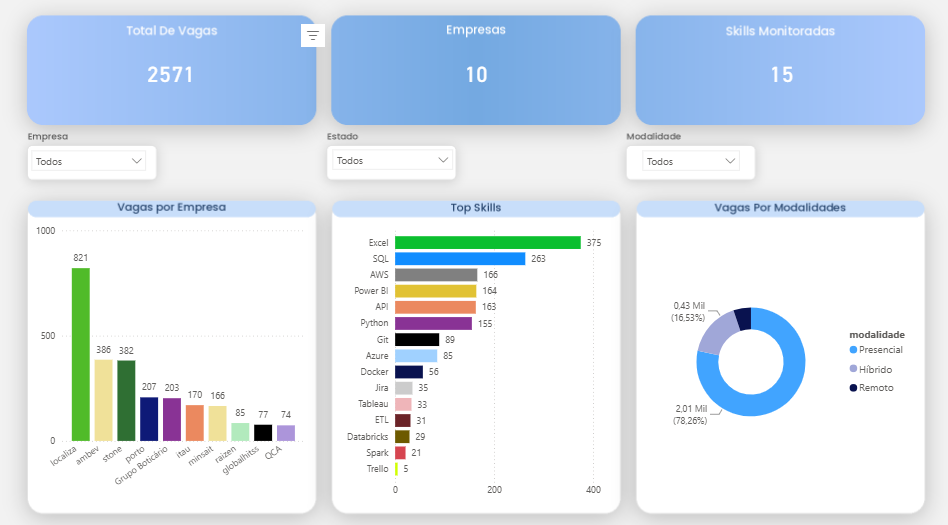

The page's visual inventory and layout, read from the dashboard file:
{"tool":"powerbi","page":{"name":"Visão Geral","canvas":[1280,720],"ordinal":0},"visuals":[{"type":"columnChart","title":"Vagas por Empresa","fields":{"Category":["companies.nome"],"Y":["Medidas.Total Vagas"]},"box":[47,298.3,368.8,379.1],"z":0},{"type":"barChart","title":"Top Skills","fields":{"Category":["job_skills.skill"],"Y":["Medidas.Qtd Ocorrências Skill"]},"box":[457,298.3,365.9,379.1],"z":1000},{"type":"donutChart","title":"Vagas Por Modalidades","fields":{"Category":["jobs.modalidade"],"Y":["CountNonNull(jobs.id)"]},"box":[871.3,298.3,364.4,379.1],"z":2000},{"type":"slicer","fields":{"Values":["companies.nome"]},"box":[36.7,195.4,173.4,44.1],"z":3000},{"type":"slicer","fields":{"Values":["jobs.estado"]},"box":[437.9,194,180.7,63.2],"z":4000},{"type":"slicer","fields":{"Values":["jobs.modalidade"]},"box":[852.2,195.4,149.9,39.7],"z":5000},{"type":"card","title":"Total De Vagas","fields":{"Values":["Medidas.Total Vagas"]},"box":[23.5,67.6,415.8,66.1],"z":6000},{"type":"card","title":"Empresas","fields":{"Values":["Medidas.Total Empresas"]},"box":[457,58.8,365.9,85.2],"z":7000},{"type":"card","title":"Skills Monitoradas","fields":{"Values":["Medidas.Total Skills"]},"box":[871.3,67.6,354.1,66.1],"z":8000}]}

Visuals, with their boxes in screenshot pixels (x1, y1, x2, y2), scaled from the page's 1280x720 canvas onto the 948x525 screenshot:
"Vagas por Empresa" columnChart: {"left": 35, "top": 218, "right": 308, "bottom": 494}
"Top Skills" barChart: {"left": 338, "top": 218, "right": 609, "bottom": 494}
"Vagas Por Modalidades" donutChart: {"left": 645, "top": 218, "right": 915, "bottom": 494}
slicer - companies.nome: {"left": 27, "top": 142, "right": 156, "bottom": 175}
slicer - jobs.estado: {"left": 324, "top": 141, "right": 458, "bottom": 188}
slicer - jobs.modalidade: {"left": 631, "top": 142, "right": 742, "bottom": 171}
"Total De Vagas" card: {"left": 17, "top": 49, "right": 325, "bottom": 97}
"Empresas" card: {"left": 338, "top": 43, "right": 609, "bottom": 105}
"Skills Monitoradas" card: {"left": 645, "top": 49, "right": 908, "bottom": 97}
